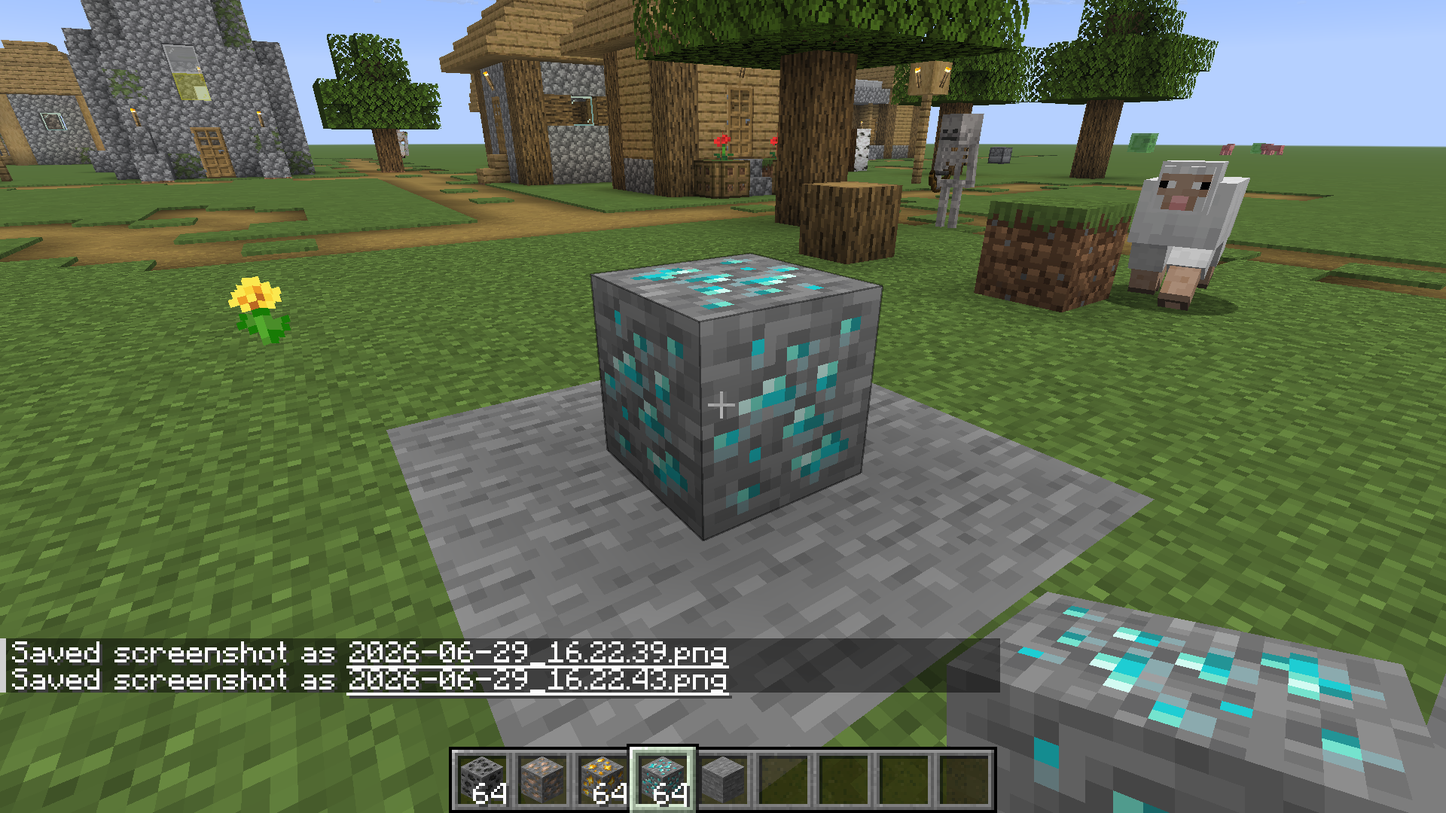Sheep: (1127, 136, 1246, 316)
Tree: (1030, 0, 1206, 187), (307, 21, 451, 190)
diamond ore: (593, 255, 878, 532)
skeleton: (928, 97, 988, 236)
